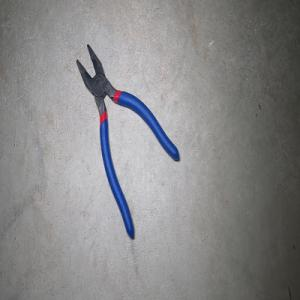Pliers: (76, 43, 179, 239)
